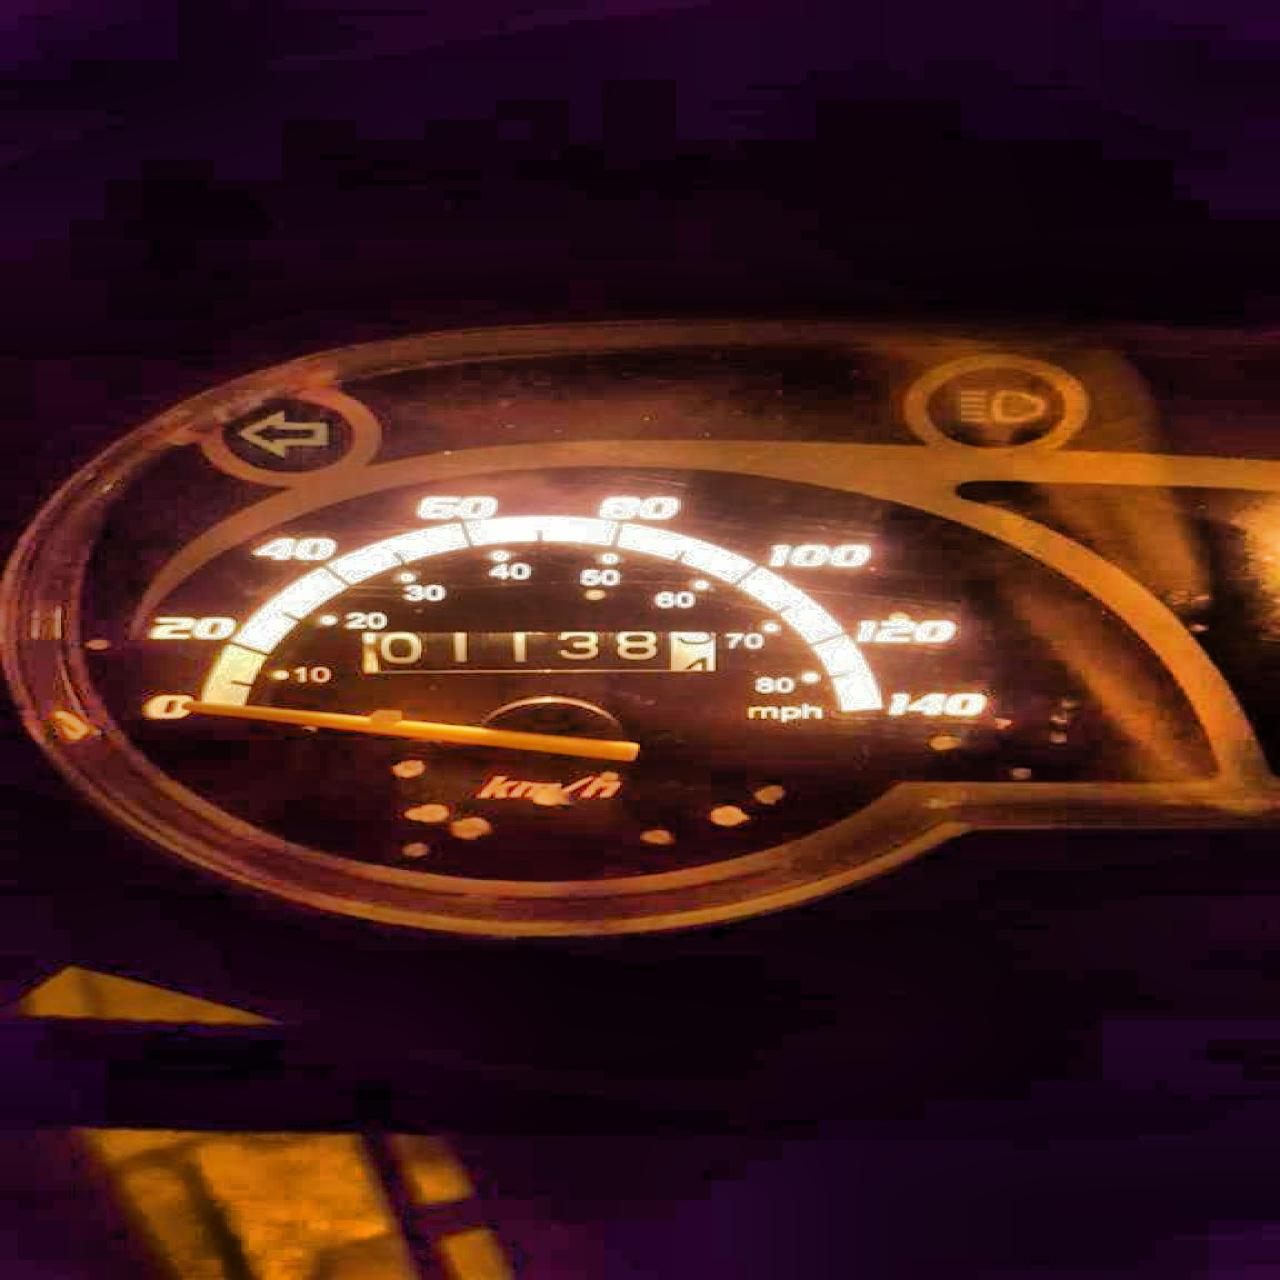0: (369, 629, 422, 663)
1: (501, 628, 536, 663), (442, 628, 476, 663)
3: (551, 629, 602, 660), (672, 627, 716, 645)
4: (674, 653, 714, 672)
8: (610, 629, 660, 660)
odometer: (347, 625, 724, 678)
